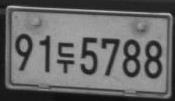1: (37, 34, 56, 73)
5: (79, 36, 98, 75)
7: (101, 37, 121, 76)
8: (143, 39, 163, 78), (121, 38, 140, 78)
9: (13, 32, 34, 71)
두: (56, 41, 75, 73)
